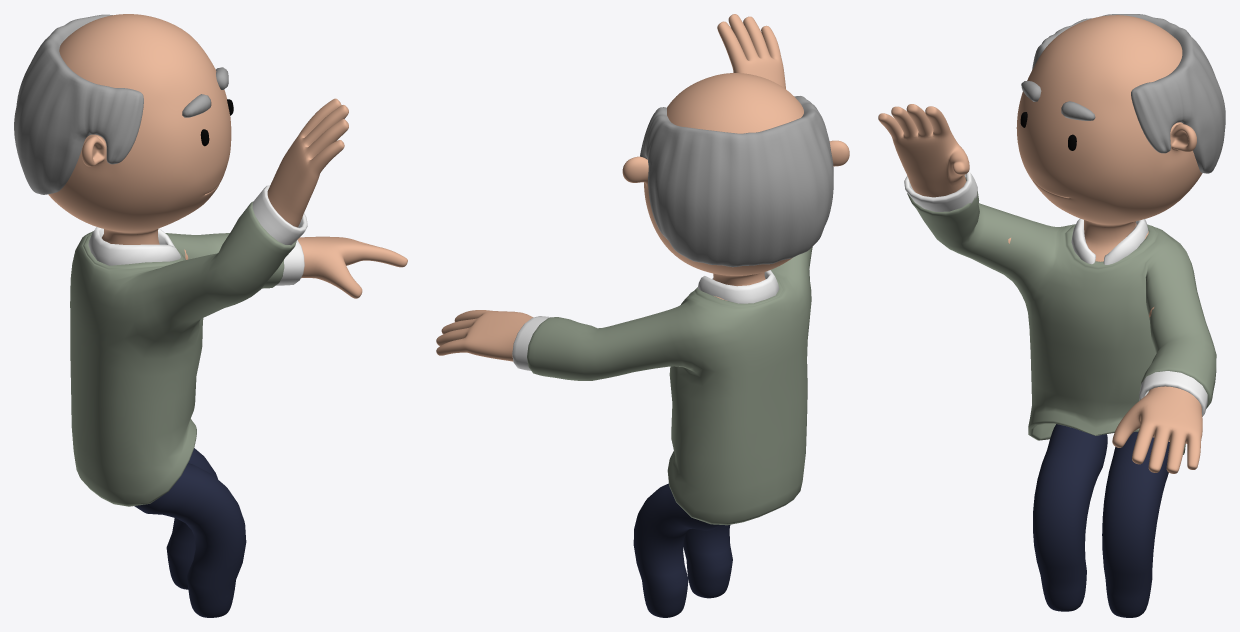
File: infographiste.gltf
3 renders of one model, left to right at view 1: azimuth 30°, elevation 25°; view 2: azimuth 150°, elevation 25°; view 3: azimuth 270°, elevation 25°, orthographic. The views are drawn at different scales.
Visible parts, largest first — view 1: Jumper, body.001, Hair_5, Cube.024, Cube.023, Eyebrow; view 2: Jumper, Hair_5, body.001, Cube.023, Cube.024; view 3: Jumper, body.001, Cube.024, Cube.023, Hair_5, Eyebrow.
Part boxes in pixels (bbox=[...]): Jumper: bbox=[70, 185, 307, 506]; body.001: bbox=[48, 14, 407, 298]; Hair_5: bbox=[14, 14, 143, 194]; Cube.024: bbox=[134, 463, 246, 617]; Cube.023: bbox=[166, 448, 217, 589]; Eyebrow: bbox=[182, 67, 228, 117]; Jumper: bbox=[512, 247, 812, 525]; Hair_5: bbox=[640, 96, 833, 267]; body.001: bbox=[436, 14, 849, 361]; Cube.023: bbox=[633, 483, 720, 617]; Cube.024: bbox=[683, 525, 732, 598]; Jumper: bbox=[904, 171, 1216, 454]; body.001: bbox=[878, 15, 1202, 473]; Cube.024: bbox=[1033, 424, 1107, 611]; Cube.023: bbox=[1102, 432, 1169, 617]; Hair_5: bbox=[1032, 14, 1225, 173]; Eyebrow: bbox=[1021, 81, 1095, 120].
Size of the model in its own units: 7.46 by 10.58 by 5.97.
